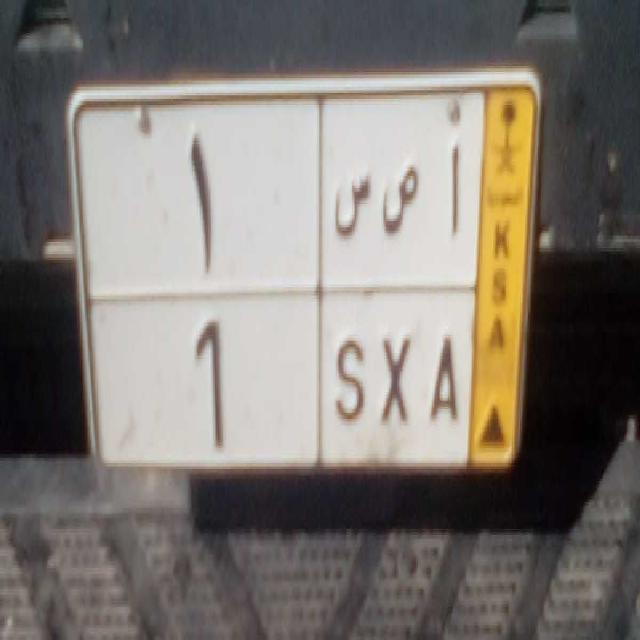license_plate: (86, 293, 475, 487)
